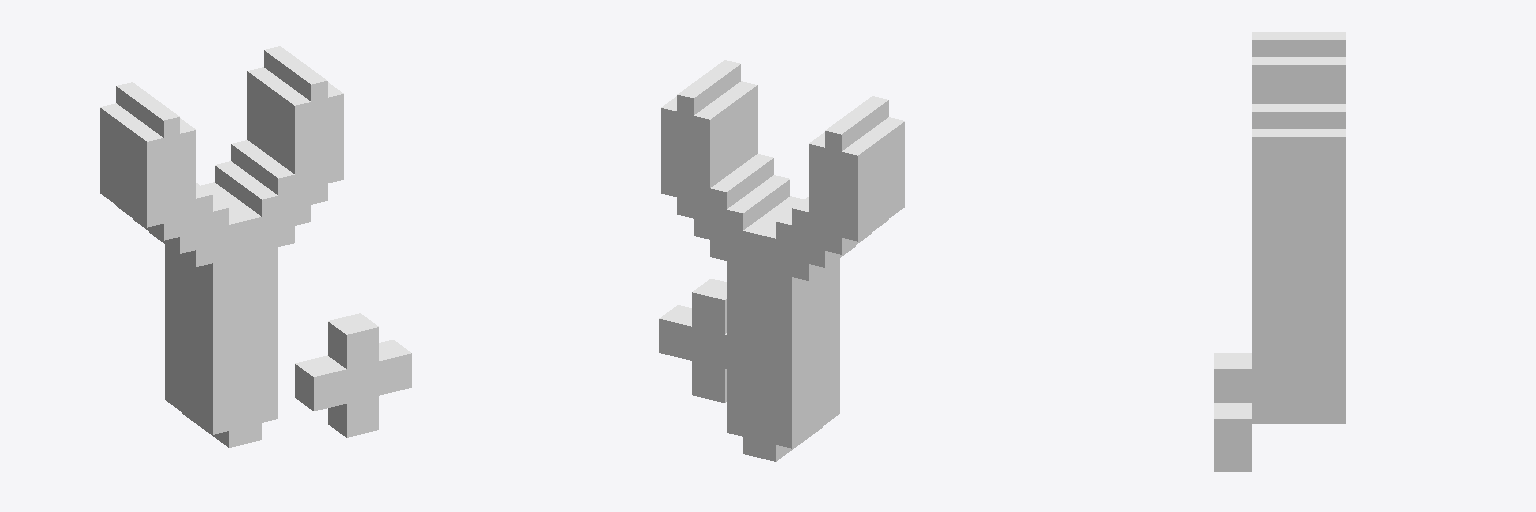
File: repairTool.obj
The picture shows the model from 3 angles: view 1: azimuth 30°, elevation 25°; view 2: azimuth 150°, elevation 25°; view 3: azimuth 270°, elevation 25°; orthographic projection.
Visible parts, largest first — view 1: object 1; view 2: object 1; view 3: object 1.
Boxes of the visible parts, x1,y1,x2,y2 form: object 1: [100, 46, 411, 447]; object 1: [659, 60, 904, 461]; object 1: [1214, 32, 1345, 471].
Size of the model in its own units: 1.5 by 2 by 0.7.